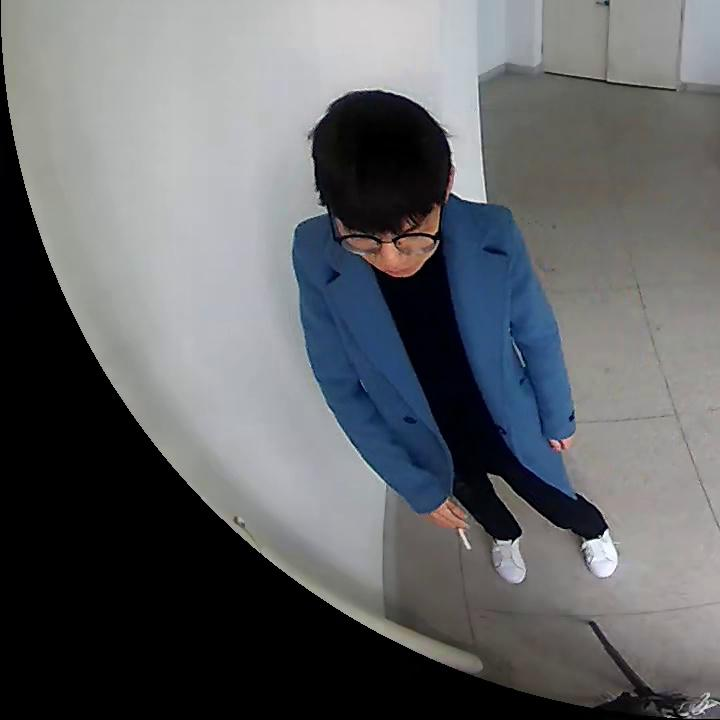handsmoke: (439, 506, 476, 552)
handwithoutsmoke: (550, 436, 575, 455)
mouthwithoutsmoke: (312, 91, 452, 279)
